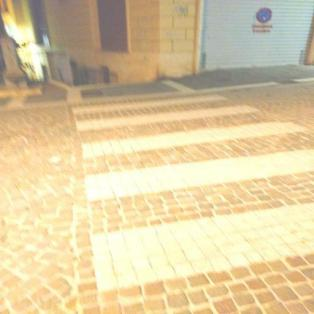Paso de Cebra: (65, 102, 310, 161)
